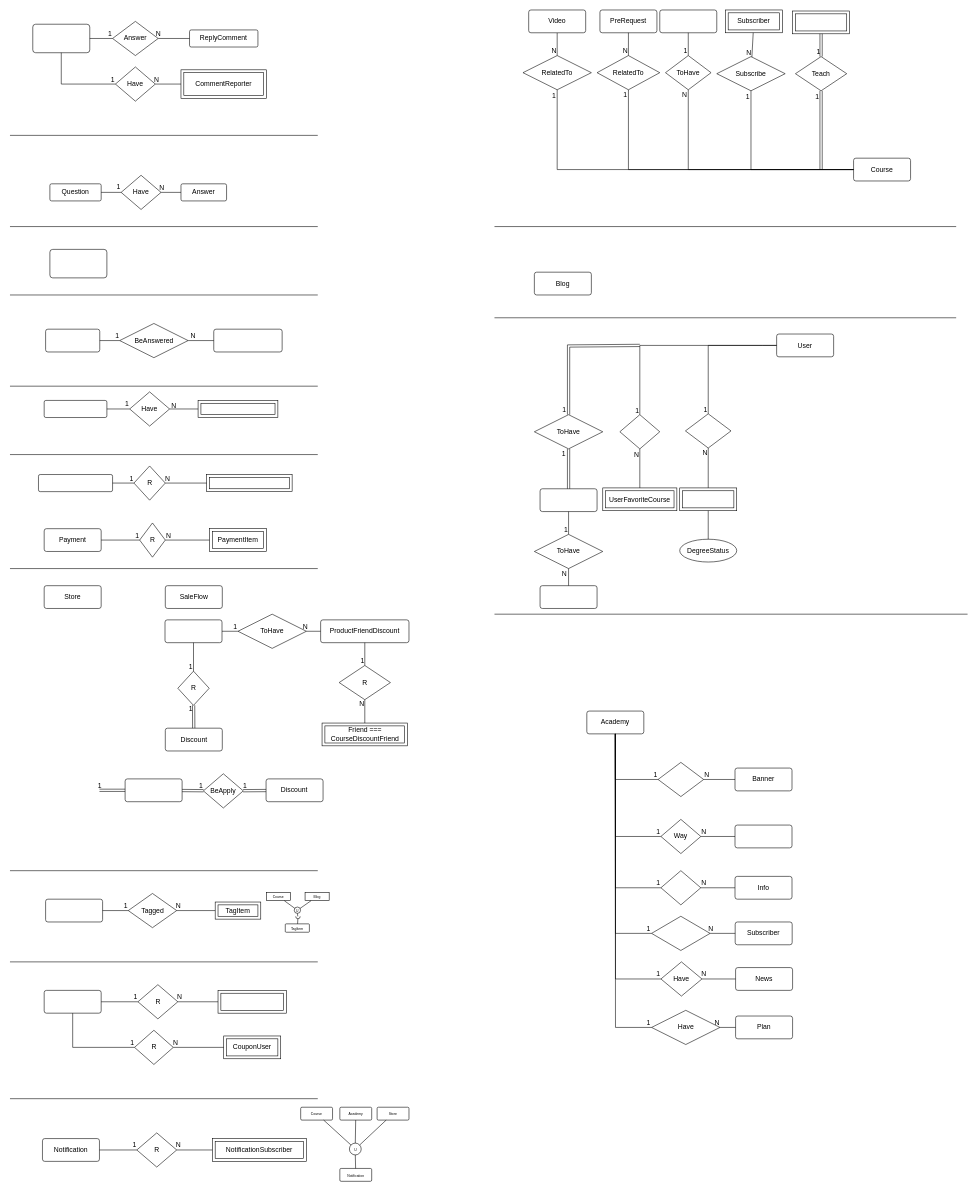
The diagram is 978 pixels wide and 1191 high, and some of its shapes have lost their labels. The shapes that lost their labels are listed below. From the top down, each one's centre as x and y in pixels, then its label:
At (x=61, y=38): "Comment".
At (x=688, y=21): "Category".
At (x=821, y=22): "Teacher".
At (x=78, y=263): "Score".
At (x=72, y=340): "Ticket".
At (x=247, y=340): "ReplyTicket".
At (x=75, y=409): "ShoppingCart".
At (x=238, y=409): "ShoppingCartItem".
At (x=639, y=431): "ToLike".
At (x=708, y=430): "Buy".
At (x=75, y=483): "CourseProposal".
At (x=249, y=483): "CourseProposalLiker".
At (x=568, y=500): "Wallet".
At (x=708, y=499): "UserCourse".
At (x=568, y=596): "WalletFlow".
At (x=193, y=631): "Product".
At (x=153, y=790): "ّFestival".
At (x=680, y=779): "Hang".
At (x=763, y=836): "ContactUs".
At (x=680, y=887): "Present".
At (x=74, y=910): "Tag".
At (x=680, y=933): "BeSubscribe".
At (x=72, y=1001): "Coupon".
At (x=251, y=1001): "CouponCourse".
